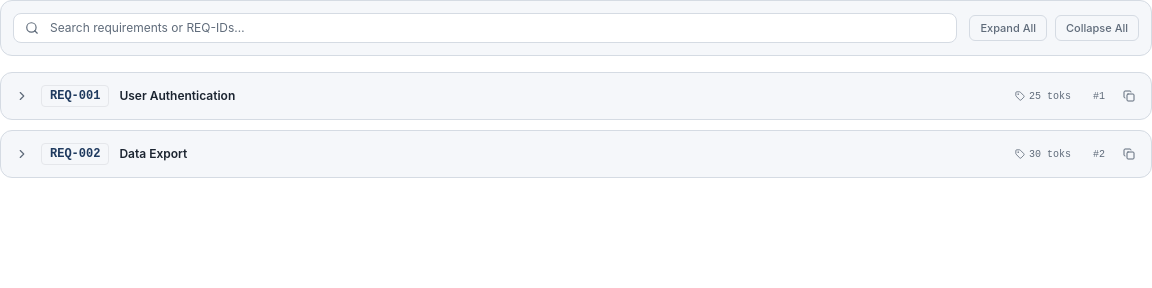
Test: RequirementList › expands and collapses requirement content on click
Expected: the text "The system shall authenticate users with passwords." is not shown
Note: Click to expand
Click the text "User Authentication": (177, 96) [119,88,235,104]
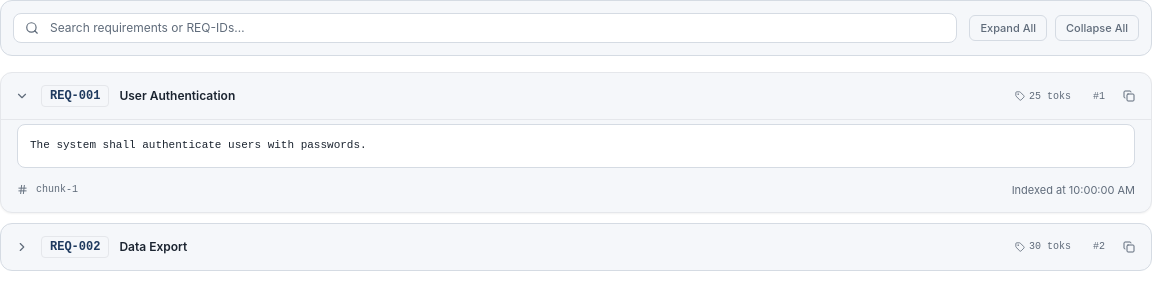
Now the text "The system shall authenticate users with passwords." is shown, box [17,124,1135,168]
Note: Click again to collapse
Click the text "User Authentication": (177, 96) [119,88,235,104]
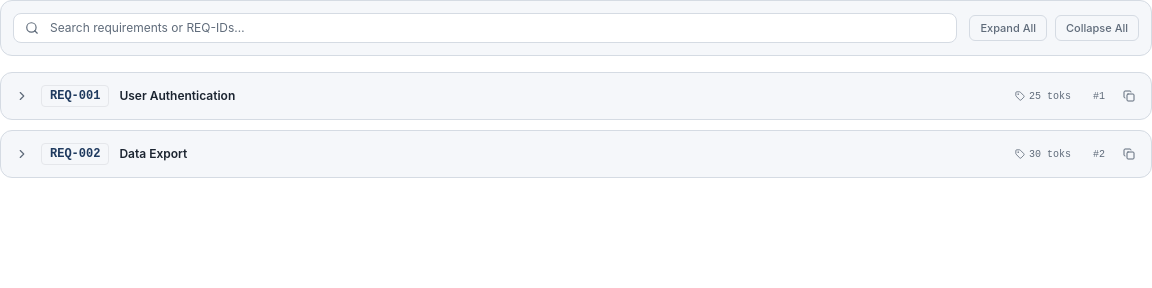
Now the text "The system shall authenticate users with passwords." is gone
